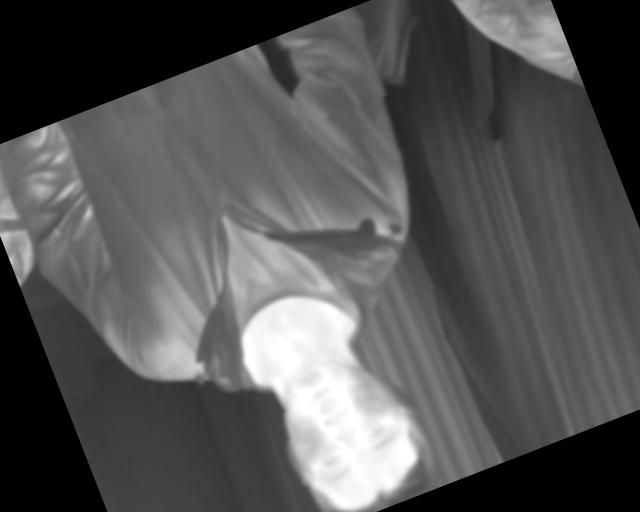face: (260, 338, 443, 512)
